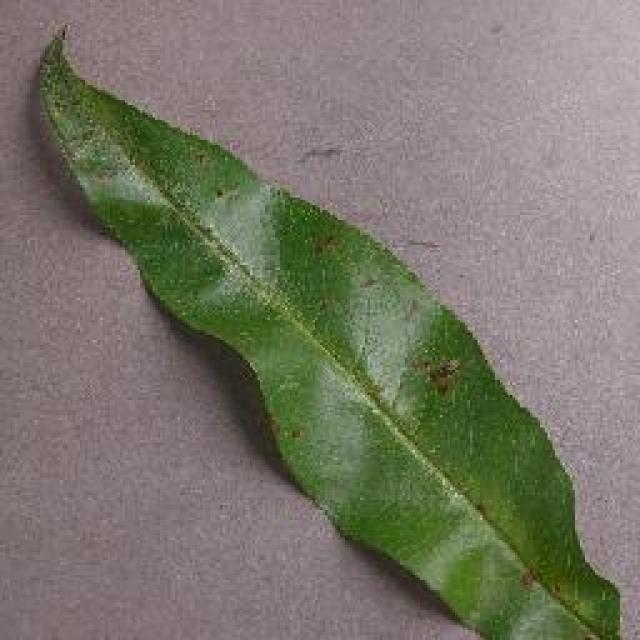Peach_Bacterial_Spot: (87, 87, 518, 463)
